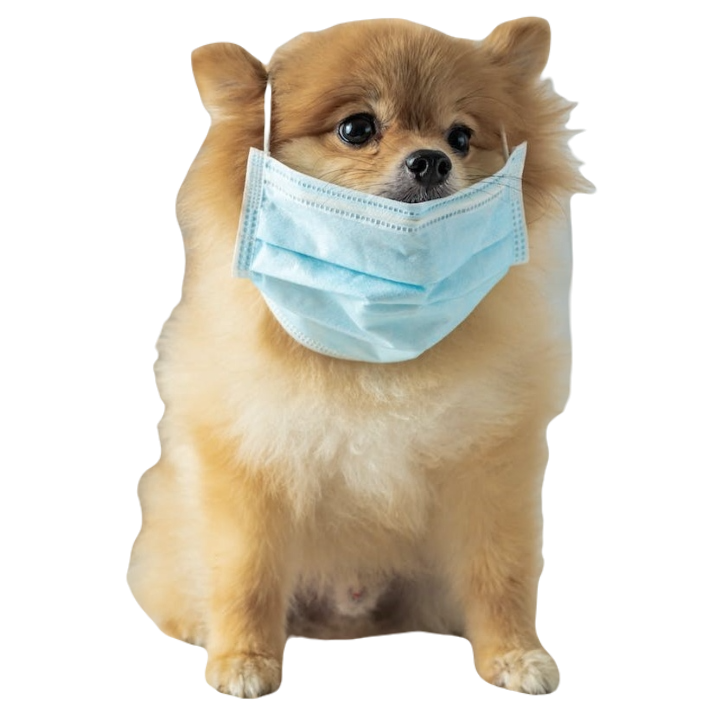Dog: (122, 16, 598, 695)
